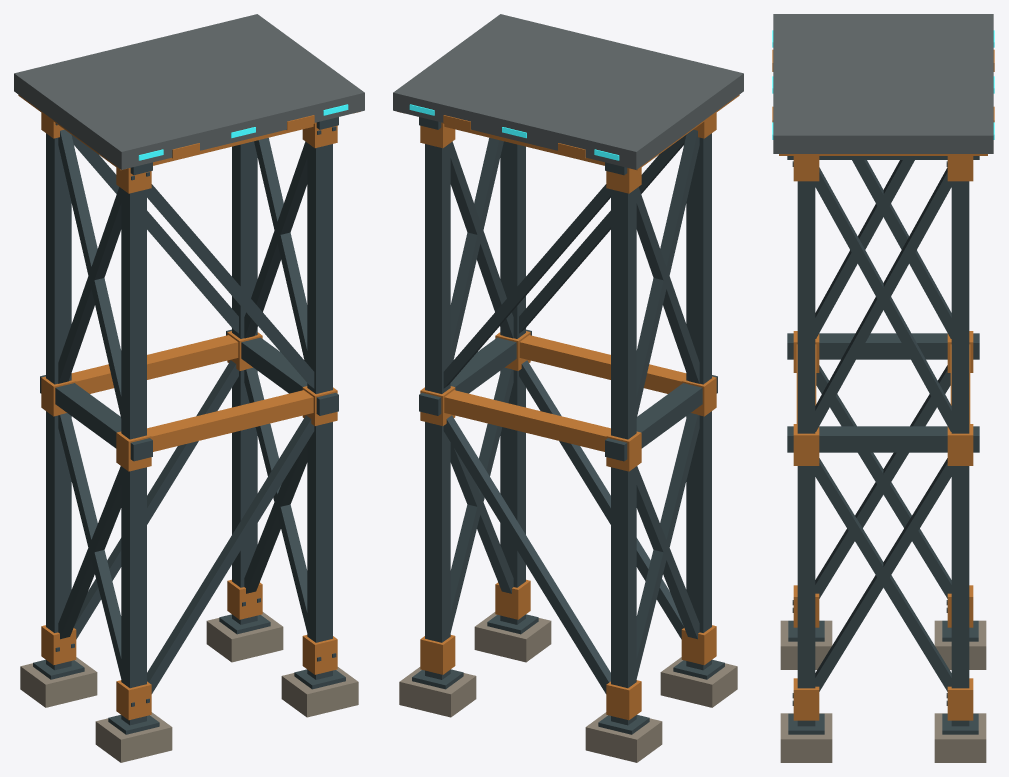
Rendered from w7a-pole-two-tower.glb.
The picture shows the model from 3 angles, left to right: view 1: azimuth 30°, elevation 25°; view 2: azimuth 150°, elevation 25°; view 3: azimuth 270°, elevation 25°; orthographic projection. The views are drawn at different scales.
Parts seen in each view (by area): view 1: Pole 2 landing tower frame, Pole 2 exact floor deck; view 2: Pole 2 landing tower frame, Pole 2 exact floor deck; view 3: Pole 2 landing tower frame, Pole 2 exact floor deck.
Part boxes in pixels (bbox=[...]): Pole 2 landing tower frame: bbox=[18, 94, 360, 762]; Pole 2 exact floor deck: bbox=[14, 14, 364, 169]; Pole 2 landing tower frame: bbox=[397, 94, 739, 762]; Pole 2 exact floor deck: bbox=[393, 14, 743, 169]; Pole 2 landing tower frame: bbox=[772, 30, 994, 762]; Pole 2 exact floor deck: bbox=[773, 14, 993, 153].
Size of the model in its own units: 3.4 by 8.2 by 2.62.
